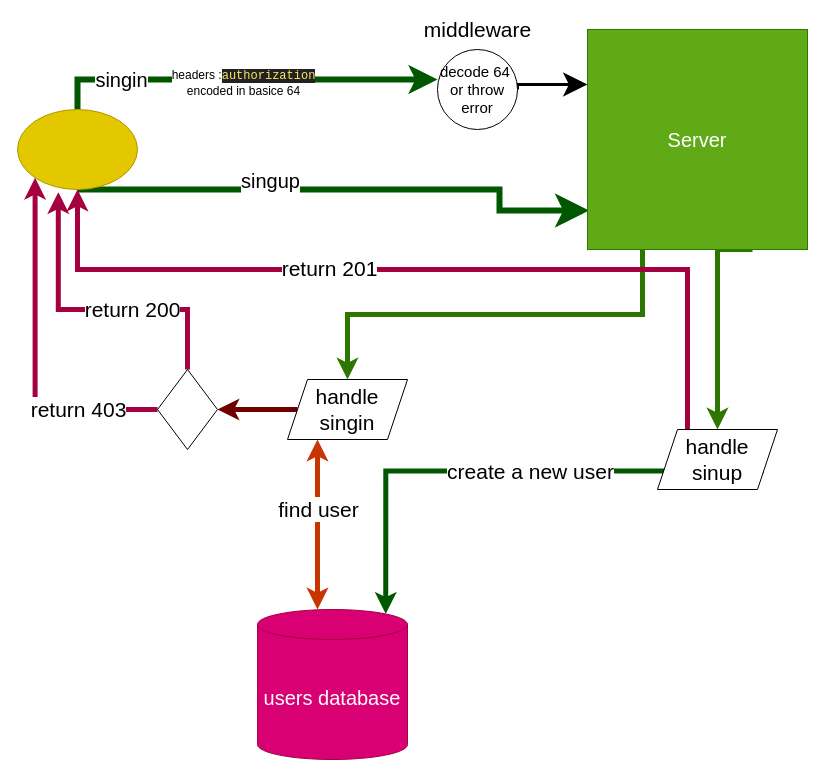
Some shapes in this 825 by 777 pixel diagram are drawn without their labels. Each missing label, with the centre of its shape:
"exist??" goes at (187,409).
"User" goes at (77,149).
